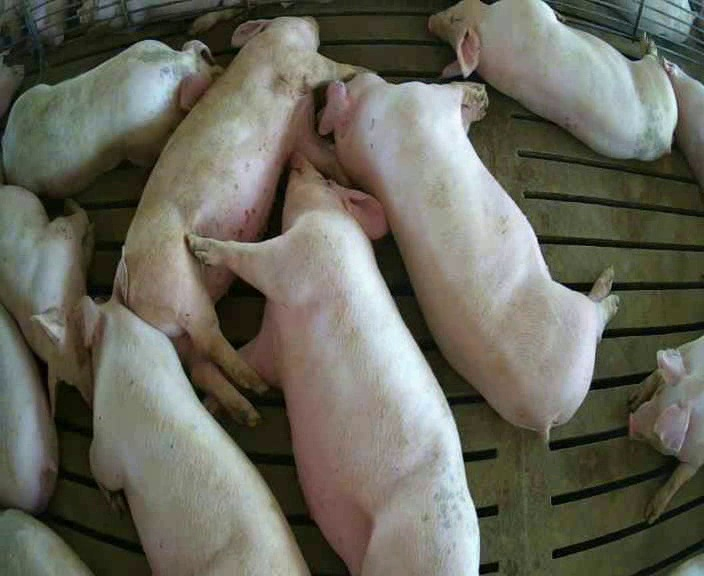pig: (319, 73, 618, 439), (124, 18, 376, 424), (82, 245, 307, 573), (430, 2, 676, 159), (2, 40, 220, 197), (629, 336, 703, 522)
